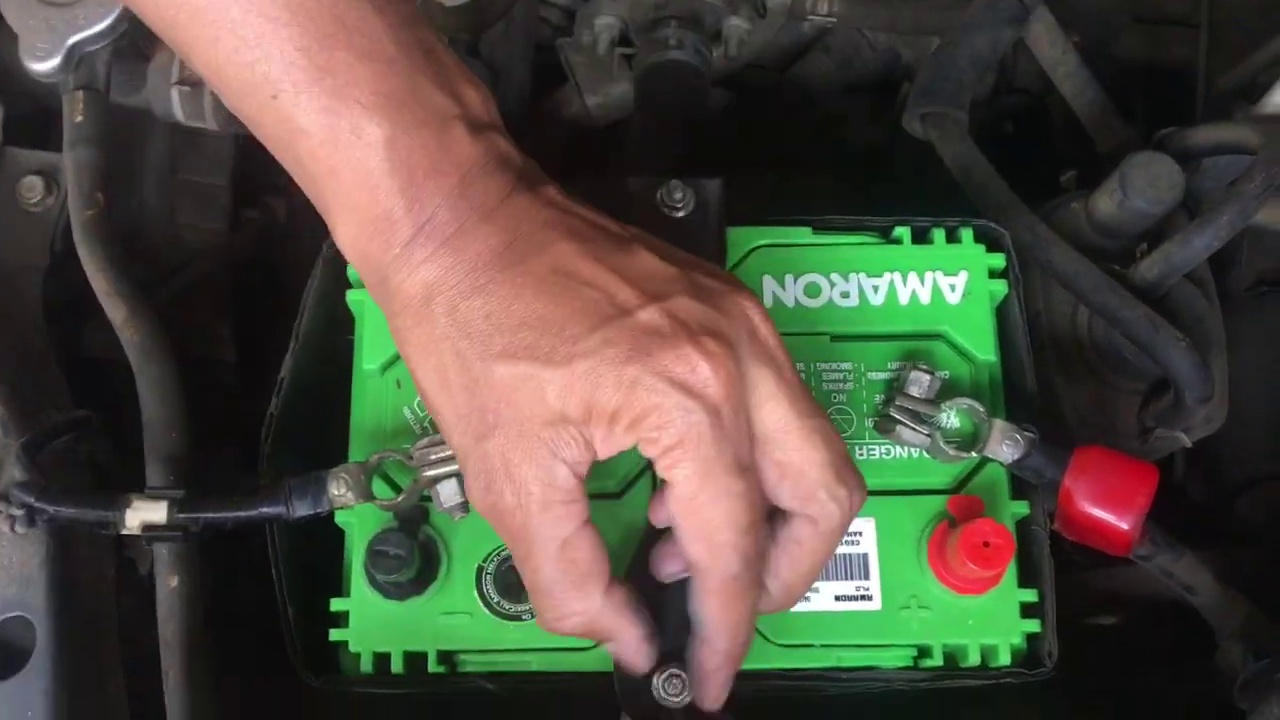battery: (338, 232, 1040, 692)
pos_disconnected: (890, 344, 1142, 614)
